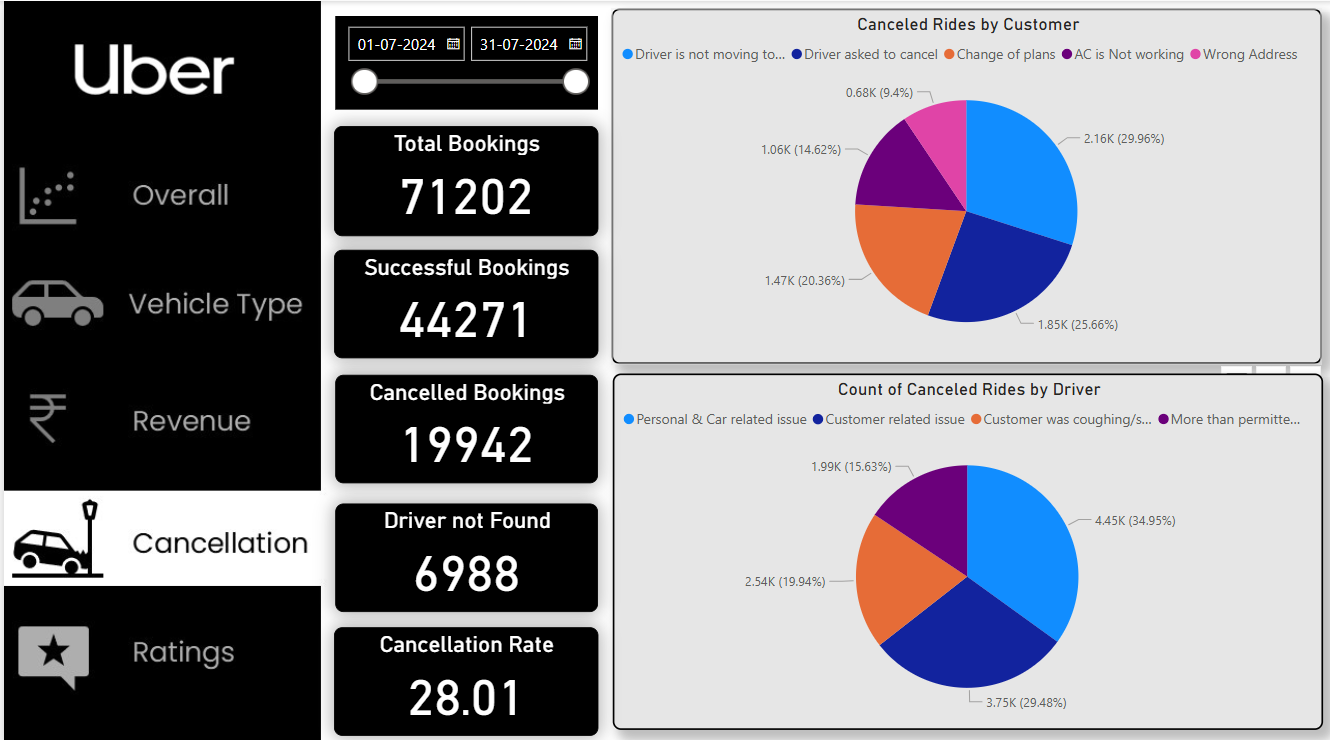

Layout of this report page (visuals, bound fields, positions):
{"tool":"powerbi","page":{"name":"Page 4","canvas":[1280,720],"ordinal":3},"visuals":[{"type":"actionButton","box":[0,145.5,307.4,91.9],"z":0},{"type":"actionButton","box":[0,248.4,307.4,91.9],"z":1000},{"type":"actionButton","box":[0,359.5,307.4,91.9],"z":2000},{"type":"actionButton","box":[0,584.6,307.4,91.9],"z":3000},{"type":"pieChart","title":"Canceled Rides by Customer ","fields":{"Y":["CountNonNull(July.Canceled_Rides_by_Customer)"],"Category":["July.Canceled_Rides_by_Customer"]},"box":[586.3,7,685.7,343.6],"z":4000},{"type":"pieChart","title":"Count of Canceled Rides by Driver ","fields":{"Category":["July.Canceled_Rides_by_Driver"],"Y":["CountNonNull(July.Canceled_Rides_by_Driver)"]},"box":[586.9,359.5,685.3,343.8],"z":5000},{"type":"slicer","fields":{"Values":["July.Date"]},"box":[319.7,15,253.7,90.1],"z":6000},{"type":"card","title":"Total Bookings","fields":{"Values":["Count(July.Booking_ID)"]},"box":[318.2,120.1,255.2,106.6],"z":7000},{"type":"card","title":"Successful Bookings","fields":{"Values":["Count(July.Booking_ID)"]},"box":[318.2,240.2,255.2,105.1],"z":8000},{"type":"card","title":"Cancelled Bookings","fields":{"Values":["Count(July.Booking_ID)"]},"box":[319.7,360.2,253.7,105.1],"z":9000},{"type":"card","title":"Driver not Found","fields":{"Values":["Count(July.Booking_ID)"]},"box":[319.7,484.8,253.7,105.1],"z":10000},{"type":"card","title":"Cancellation Rate","fields":{"Values":["July.cancellation rate"]},"box":[318.2,604.9,255.2,105.1],"z":11000}]}

Visuals, with their boxes in screenshot pixels (x1, y1, x2, y2), scaled from the page's 1280x720 canvas onto the 1330x740 screenshot:
actionButton: x1=0 y1=150 x2=319 y2=244
actionButton: x1=0 y1=255 x2=319 y2=350
actionButton: x1=0 y1=369 x2=319 y2=464
actionButton: x1=0 y1=601 x2=319 y2=695
"Canceled Rides by Customer " pieChart: x1=609 y1=7 x2=1322 y2=360
"Count of Canceled Rides by Driver " pieChart: x1=610 y1=369 x2=1322 y2=723
slicer - July.Date: x1=332 y1=15 x2=596 y2=108
"Total Bookings" card: x1=331 y1=123 x2=596 y2=233
"Successful Bookings" card: x1=331 y1=247 x2=596 y2=355
"Cancelled Bookings" card: x1=332 y1=370 x2=596 y2=478
"Driver not Found" card: x1=332 y1=498 x2=596 y2=606
"Cancellation Rate" card: x1=331 y1=622 x2=596 y2=730
